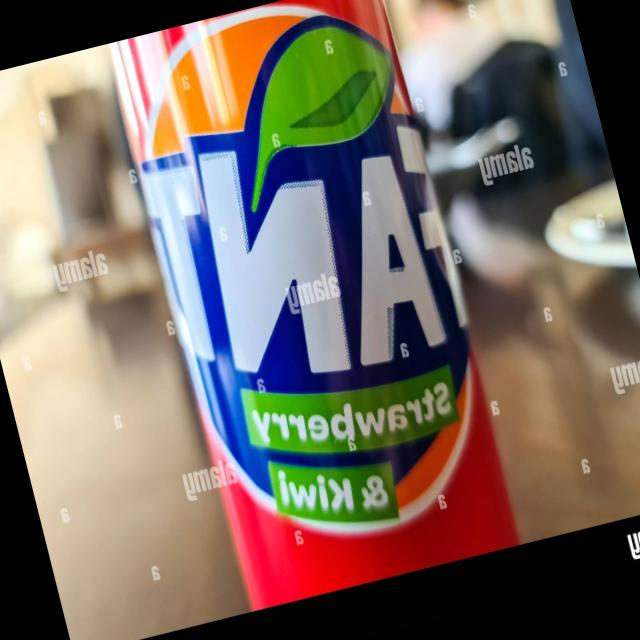fanta: (80, 0, 537, 612)
